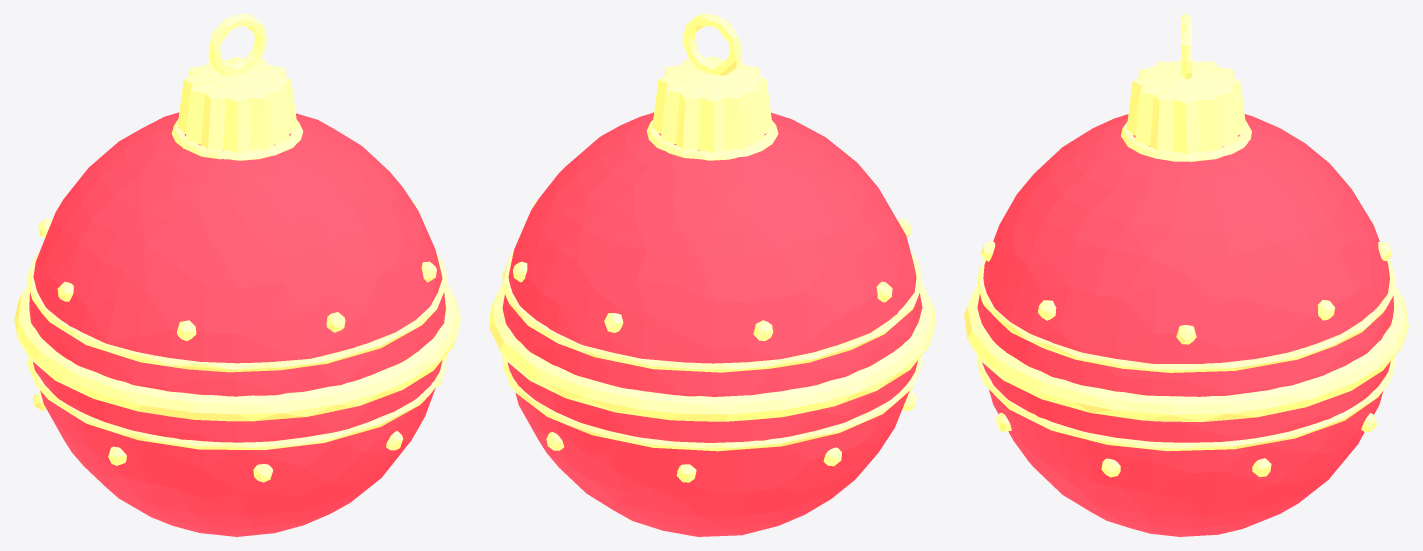
File: Pieza_Esfera.glb
The picture shows the model from 3 angles, left to right: view 1: azimuth 30°, elevation 25°; view 2: azimuth 150°, elevation 25°; view 3: azimuth 270°, elevation 25°; orthographic projection.
Parts seen in each view (by area): view 1: Pieza_Esfera; view 2: Pieza_Esfera; view 3: Pieza_Esfera.
Boxes of the visible parts, x1,y1,x2,y2 form: Pieza_Esfera: (14,14,460,536); Pieza_Esfera: (489,14,935,536); Pieza_Esfera: (964,14,1408,536).
Size of the model in its own units: 0.3192 by 0.3969 by 0.3192.
